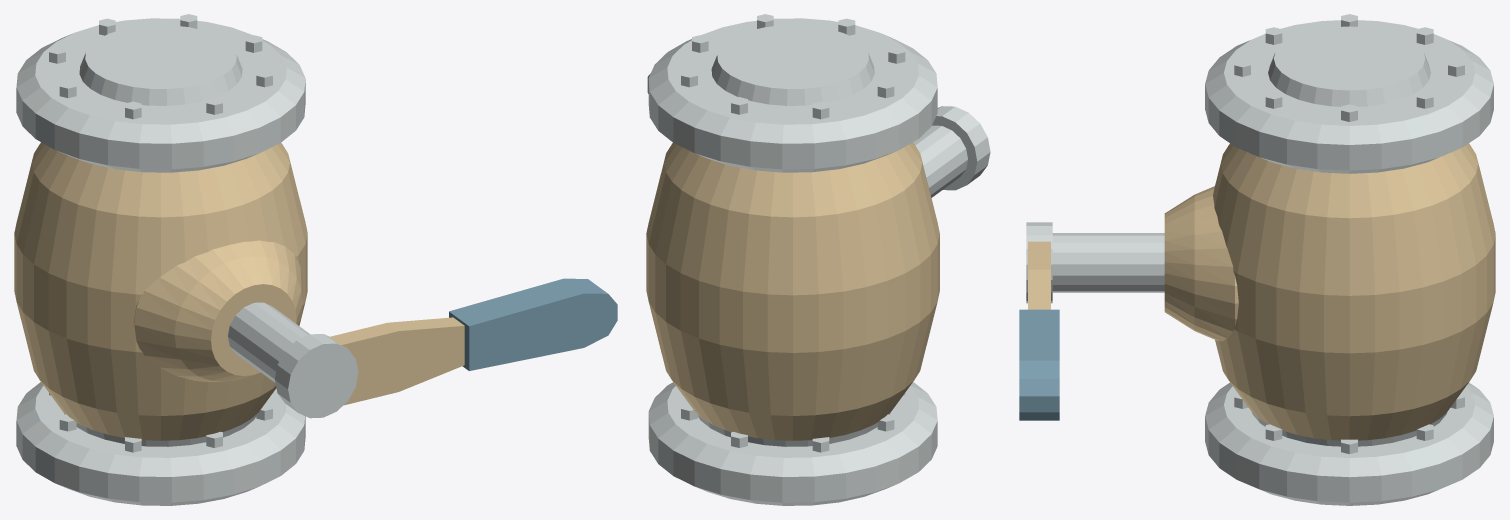
File: ball.glb
The picture shows the model from 3 angles, left to right: view 1: azimuth 30°, elevation 25°; view 2: azimuth 150°, elevation 25°; view 3: azimuth 270°, elevation 25°; orthographic projection.
Visible parts, largest first — view 1: body_brass, body_metal, actuator_grip, actuator_brass, actuator_metal; view 2: body_brass, body_metal, actuator_metal; view 3: body_brass, body_metal, actuator_grip, actuator_brass, actuator_metal.
Part boxes in pixels (<box>): body_brass: <box>14,142,307,440</box>; body_metal: <box>16,14,309,505</box>; actuator_grip: <box>449,278,617,370</box>; actuator_brass: <box>330,317,464,405</box>; actuator_metal: <box>275,334,358,418</box>; body_brass: <box>646,142,939,440</box>; body_metal: <box>648,14,967,505</box>; actuator_metal: <box>932,106,990,190</box>; body_brass: <box>1164,143,1495,440</box>; body_metal: <box>1052,14,1493,505</box>; actuator_grip: <box>1019,309,1059,420</box>; actuator_brass: <box>1028,241,1050,309</box>; actuator_metal: <box>1026,222,1052,303</box>.
Size of the model in its own units: 0.273 by 0.256 by 0.2705.
